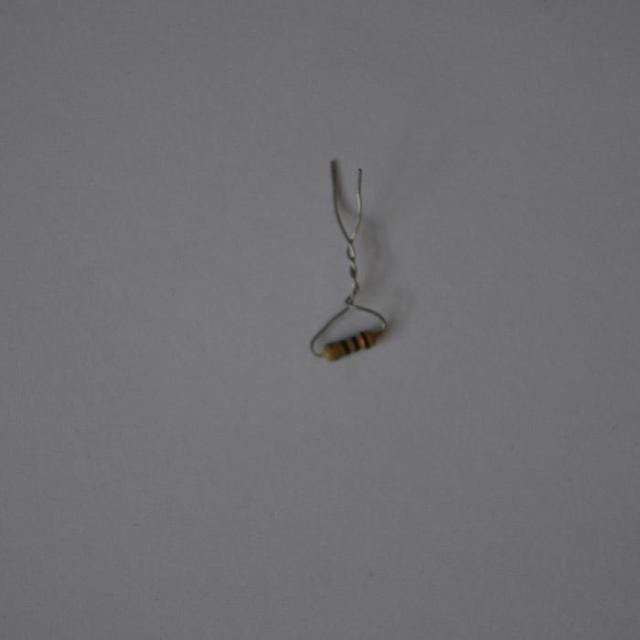Resistor: (319, 324, 385, 367)
black: (352, 338, 360, 353)
brown: (342, 340, 351, 356), (363, 332, 370, 351)
